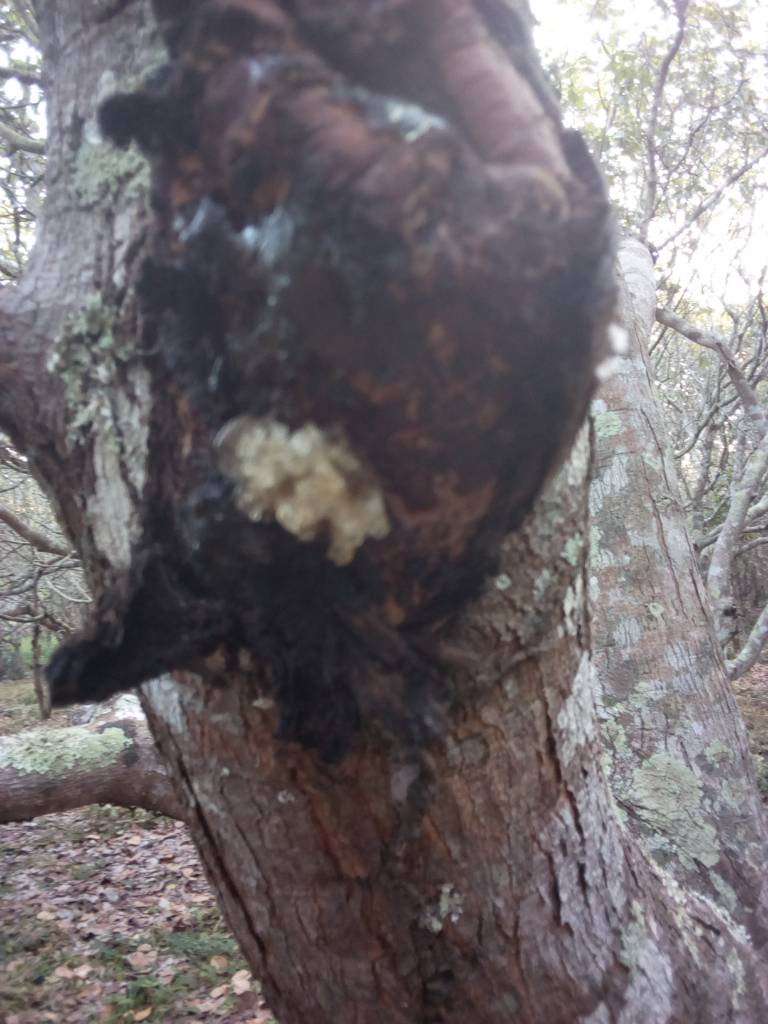ploceadorus ferrugineus: (56, 1, 639, 711)
